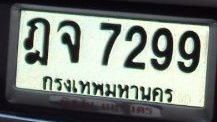txt06: (56, 19, 83, 65)
txt11: (22, 16, 51, 67)
